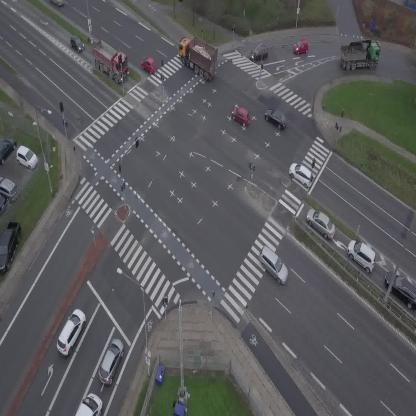car: (51, 306, 90, 357), (253, 244, 295, 287), (94, 336, 128, 387), (342, 236, 383, 275), (301, 205, 341, 242), (285, 159, 318, 190), (262, 106, 291, 132), (228, 104, 254, 128), (65, 33, 86, 55), (138, 55, 160, 75), (250, 45, 269, 60), (293, 39, 309, 54), (50, 0, 64, 7)
lorry: (169, 31, 226, 82), (83, 35, 137, 86), (339, 38, 382, 71), (75, 393, 102, 416)
